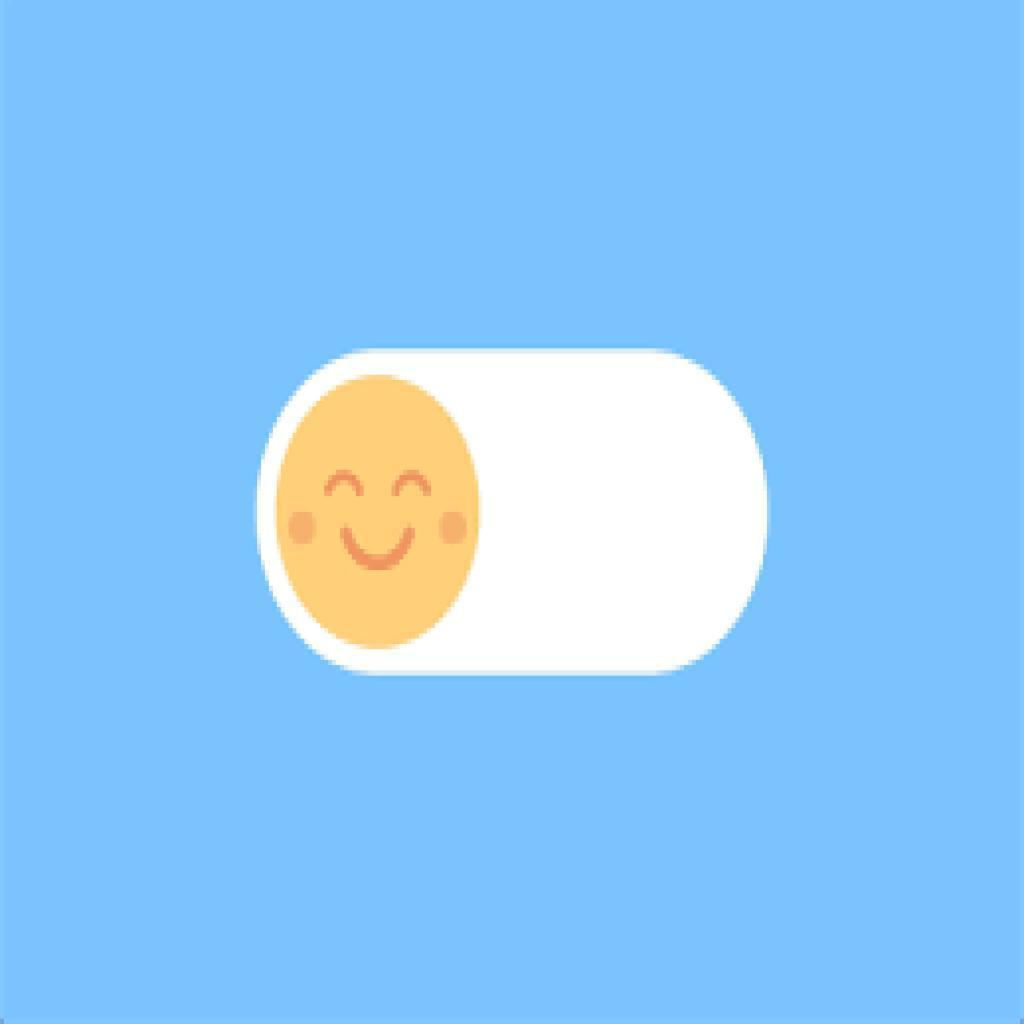switch: (258, 350, 771, 675)
